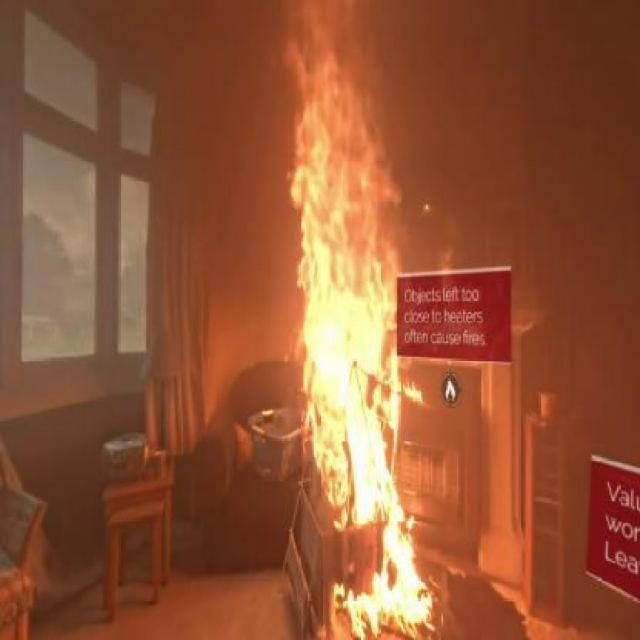fire: (250, 0, 438, 528)
